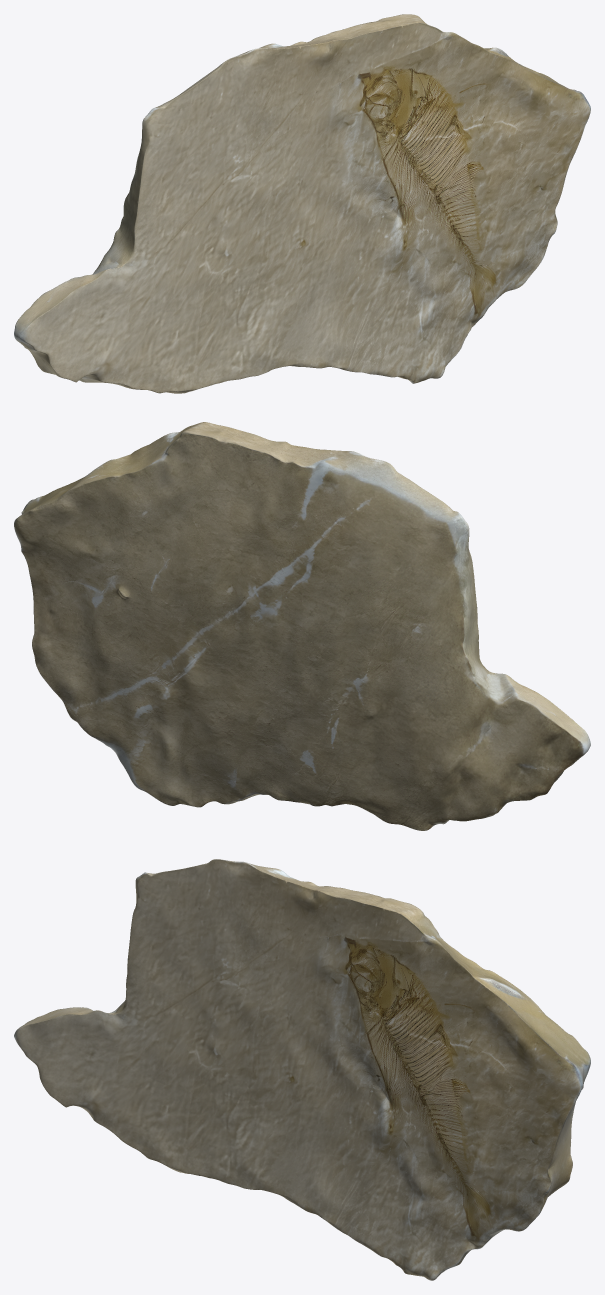
The model's file is fish1.glb.
3 renders of one model, top to bottom at view 1: azimuth 30°, elevation 25°; view 2: azimuth 150°, elevation 25°; view 3: azimuth 330°, elevation 25°, orthographic.
Size of the model in its own units: 1.9 by 1.19 by 0.2051.
1 material, 1 textured.
